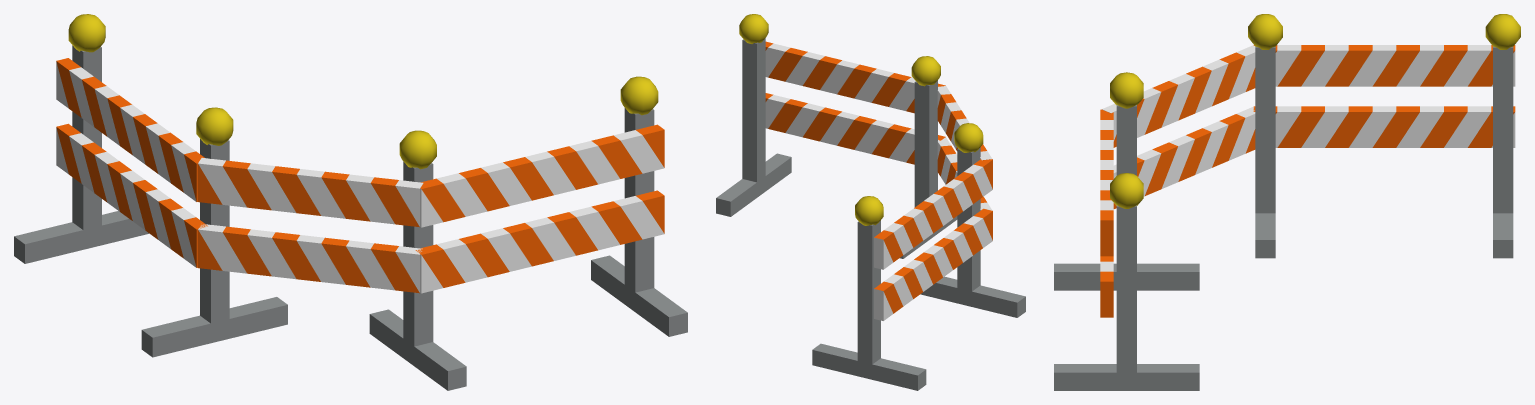
Rendered from ConstructionSign.fbx.
3 views of the same model, side by side, from view 1: azimuth 30°, elevation 25°; view 2: azimuth 150°, elevation 25°; view 3: azimuth 270°, elevation 25° (orthographic). The views are drawn at different scales.
Parts seen in each view (by area): view 1: ConstructionSign; view 2: ConstructionSign; view 3: ConstructionSign.
Part boxes in pixels (x1=…): ConstructionSign: x1=14, y1=14, x2=687, y2=390; ConstructionSign: x1=716, y1=14, x2=1025, y2=390; ConstructionSign: x1=1054, y1=14, x2=1520, y2=390.
Bounding box in the file's own units: 177 × 88.72 × 177.
